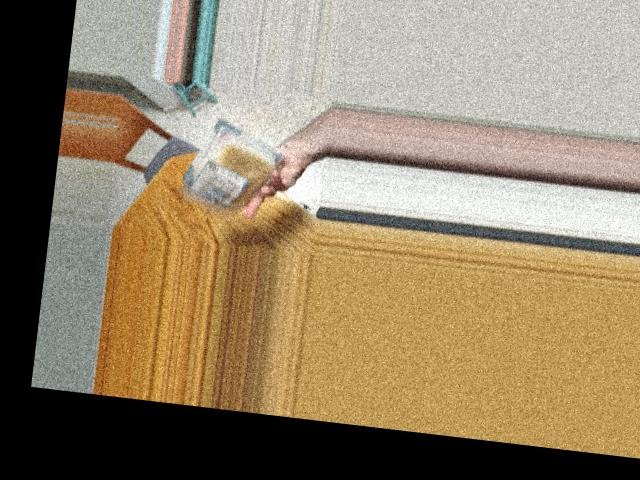cheese: (179, 116, 263, 214)
